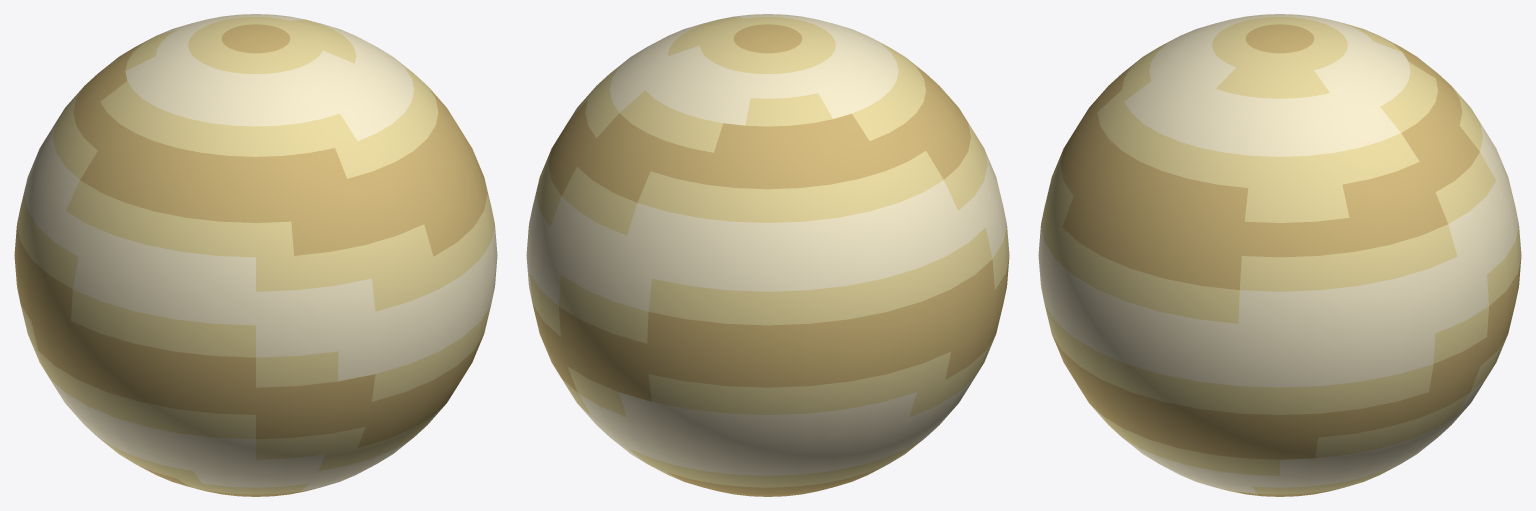
Rendered from venus.glb.
3 views of the same model, side by side, from view 1: azimuth 30°, elevation 25°; view 2: azimuth 150°, elevation 25°; view 3: azimuth 270°, elevation 25° (orthographic).
Visible parts, largest first — view 1: body; view 2: body; view 3: body.
Part boxes in pixels (bbox=[...]): body: bbox=[14, 14, 497, 496]; body: bbox=[526, 14, 1009, 496]; body: bbox=[1038, 14, 1521, 496].
Bounding box in the file's own units: 200 × 200 × 200.
